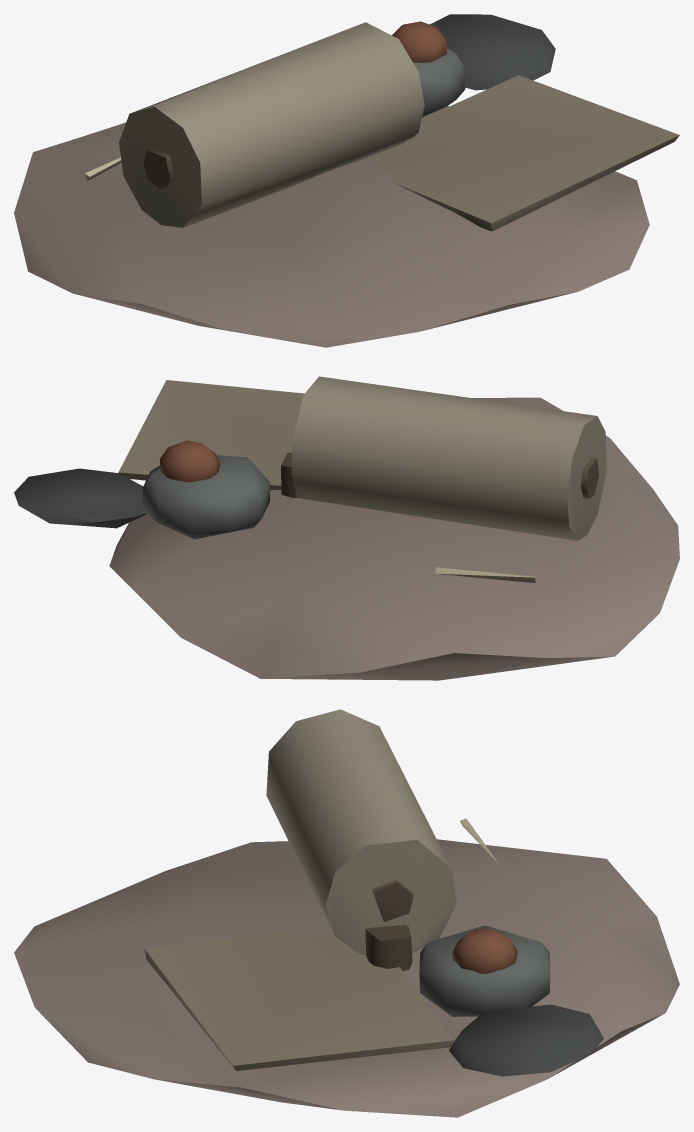
File: patch_bolt_a_lod2.glb
The picture shows the model from 3 angles, top to bottom: view 1: azimuth 30°, elevation 25°; view 2: azimuth 150°, elevation 25°; view 3: azimuth 270°, elevation 25°; orthographic projection. The views are drawn at different scales.
Visible parts, largest first — view 1: Surface.001; view 2: Surface.001; view 3: Surface.001.
Boxes of the visible parts, x1=… form: Surface.001: x1=14, y1=14, x2=679, y2=347; Surface.001: x1=14, y1=376, x2=679, y2=680; Surface.001: x1=14, y1=709, x2=679, y2=1117.
Size of the model in its own units: 1.64 by 0.6369 by 1.61.
